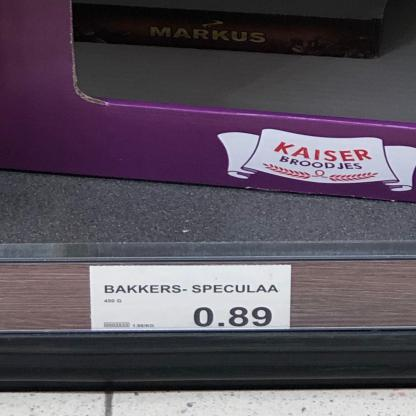prtg: (90, 266, 292, 331)
